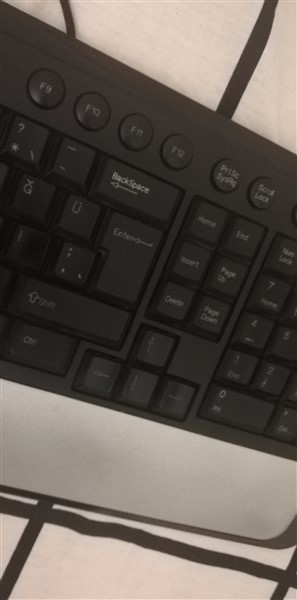klavye: (1, 18, 296, 550)
